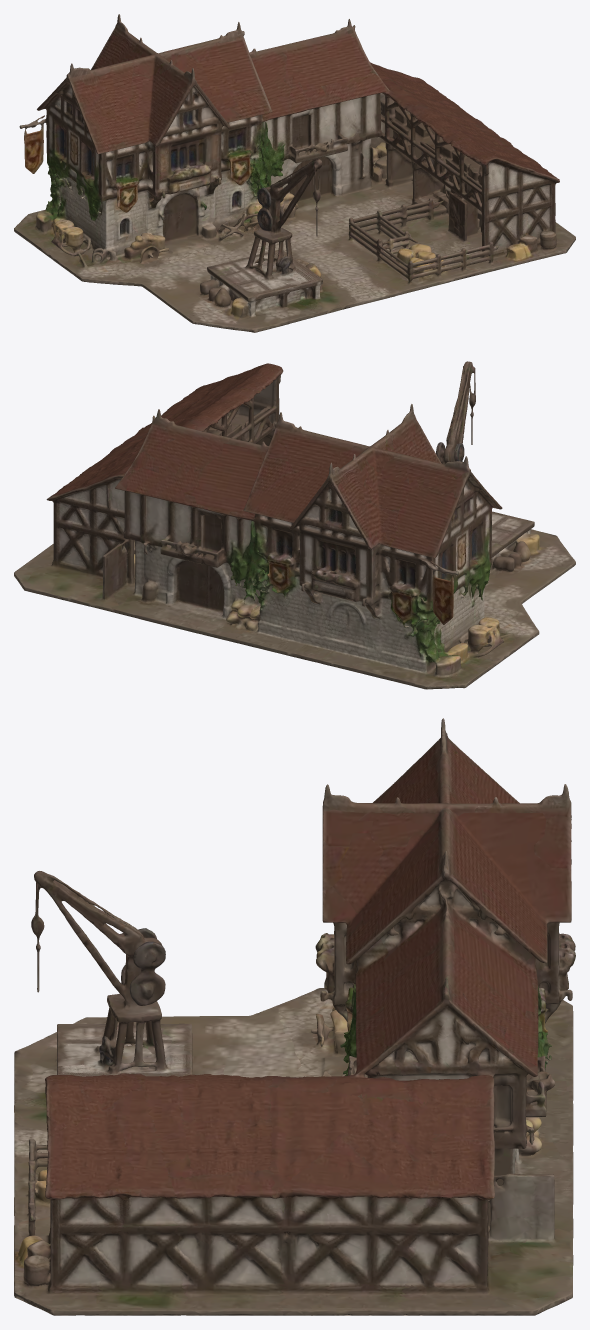
The model's file is zunfthaus.glb.
The picture shows the model from 3 angles, top to bottom: view 1: azimuth 30°, elevation 25°; view 2: azimuth 150°, elevation 25°; view 3: azimuth 270°, elevation 25°; orthographic projection. The views are drawn at different scales.
Size of the model in its own units: 1.9 by 0.8172 by 1.39.
1 material, 1 textured.
